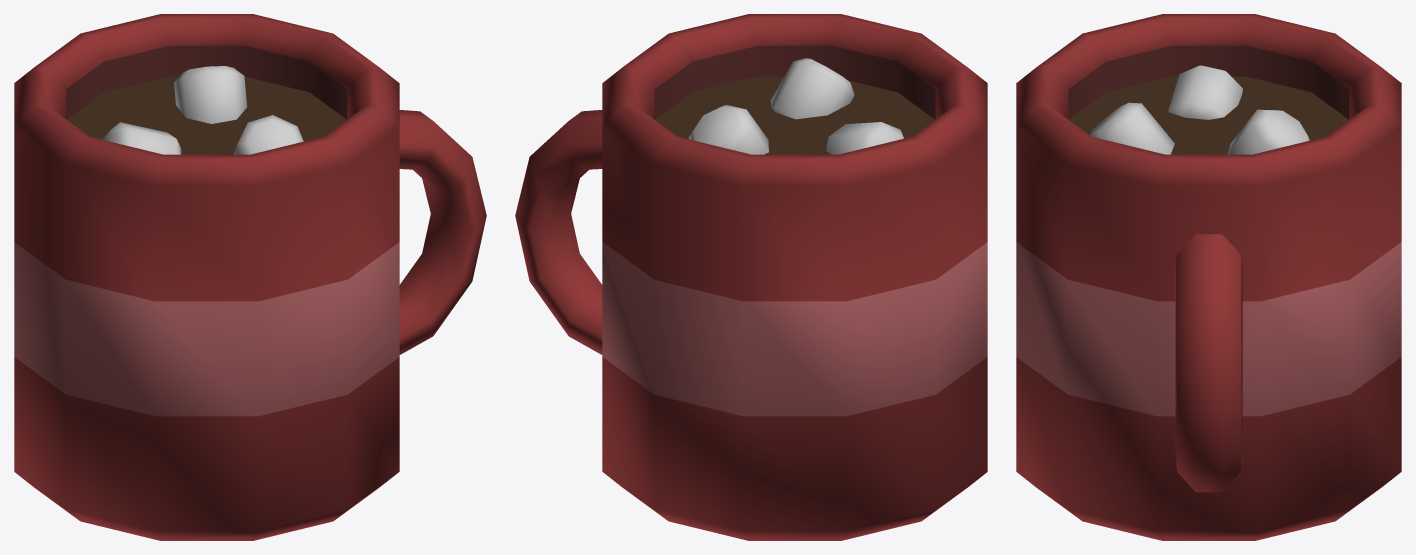
Rendered from HotCocoa.fbx.
3 renders of one model, left to right at view 1: azimuth 30°, elevation 25°; view 2: azimuth 150°, elevation 25°; view 3: azimuth 270°, elevation 25°, orthographic.
Parts seen in each view (by area): view 1: HotCocoa; view 2: HotCocoa; view 3: HotCocoa.
Boxes of the visible parts, bbox=[...] form: HotCocoa: bbox=[14, 14, 486, 540]; HotCocoa: bbox=[515, 14, 987, 540]; HotCocoa: bbox=[1016, 14, 1401, 540].
Bounding box in the file's own units: 0.1848 × 0.1528 × 0.1401.
